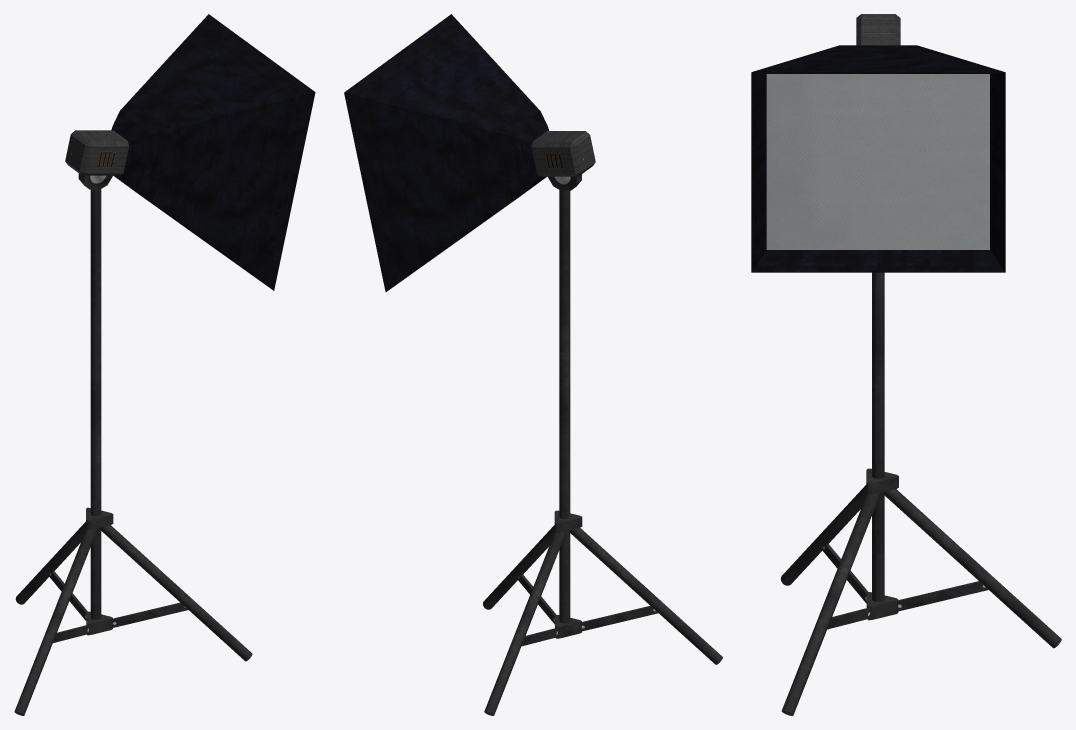
File: softlightBoxFinal.fbx
The picture shows the model from 3 angles, left to right: view 1: azimuth 30°, elevation 25°; view 2: azimuth 150°, elevation 25°; view 3: azimuth 270°, elevation 25°; orthographic projection. The views are drawn at different scales.
Parts seen in each view (by area): view 1: Cube; view 2: Cube; view 3: Cube.
Part boxes in pixels (bbox=[...]): Cube: bbox=[14, 14, 315, 715]; Cube: bbox=[344, 14, 722, 715]; Cube: bbox=[751, 14, 1061, 715].
Size of the model in its own units: 3.08 by 5.86 by 2.44.
7 materials, 7 textured.
